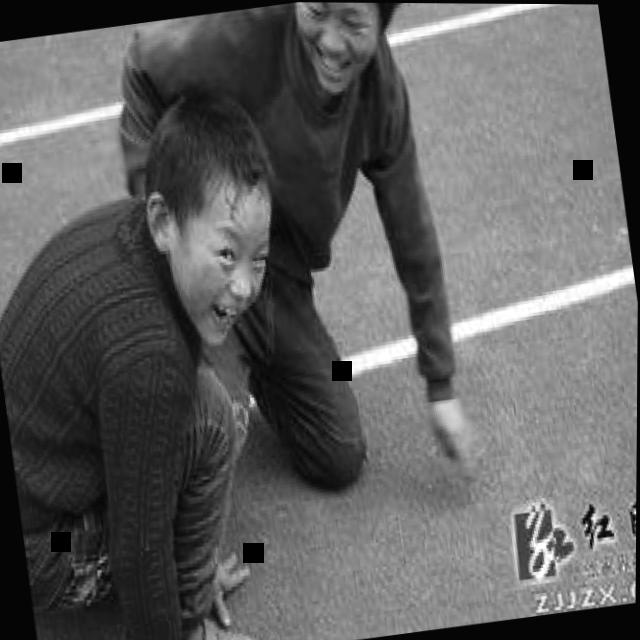Fall-Detected: (85, 1, 517, 523)
